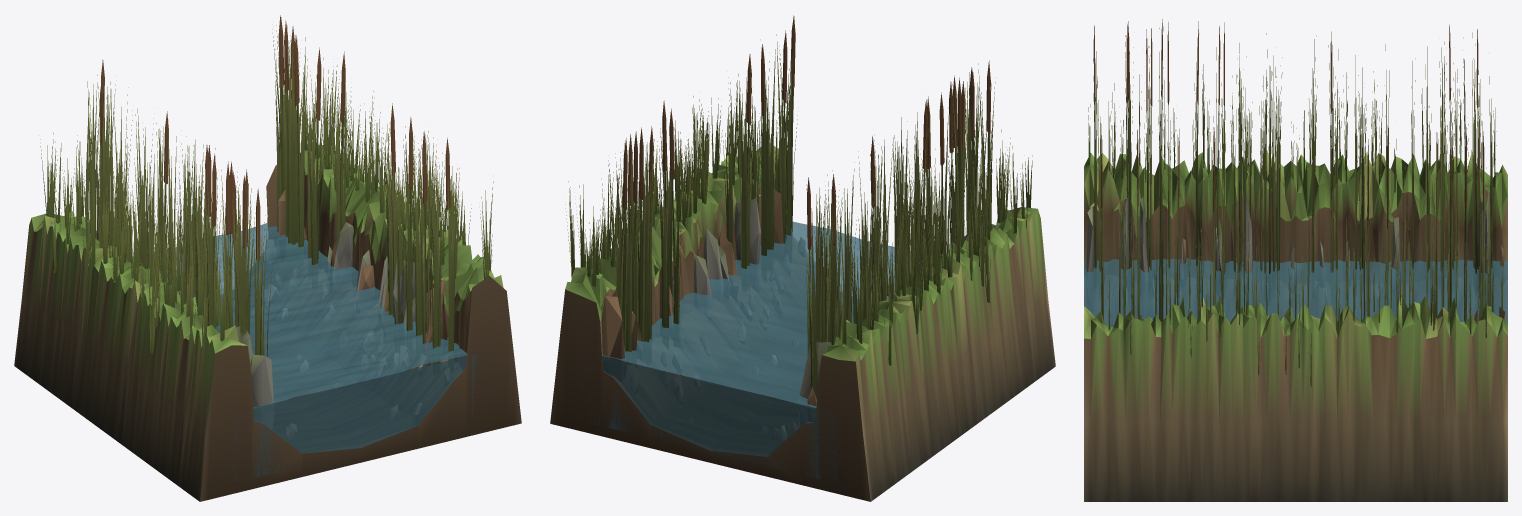
The model's file is water.glb.
The picture shows the model from 3 angles, left to right: view 1: azimuth 30°, elevation 25°; view 2: azimuth 150°, elevation 25°; view 3: azimuth 270°, elevation 25°; orthographic projection. The views are drawn at different scales.
Visible parts, largest first — view 1: water, water-translucent; view 2: water, water-translucent; view 3: water, water-translucent.
Part boxes in pixels (x1,y1,x2,y2): water: (14,15,521,501); water-translucent: (132,223,478,482); water: (550,15,1055,501); water-translucent: (583,221,910,482); water: (1084,19,1507,501); water-translucent: (1084,258,1507,327).
Bounding box in the file's own units: 1 × 0.8915 × 1.
